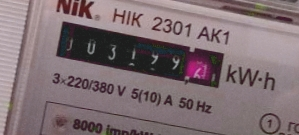0: (60, 30, 75, 53), (83, 34, 98, 55)
1: (127, 40, 139, 61)
3: (104, 40, 118, 60)
6: (191, 63, 204, 80)
9: (147, 45, 161, 66), (168, 50, 181, 70)
screen: (46, 14, 234, 96)
